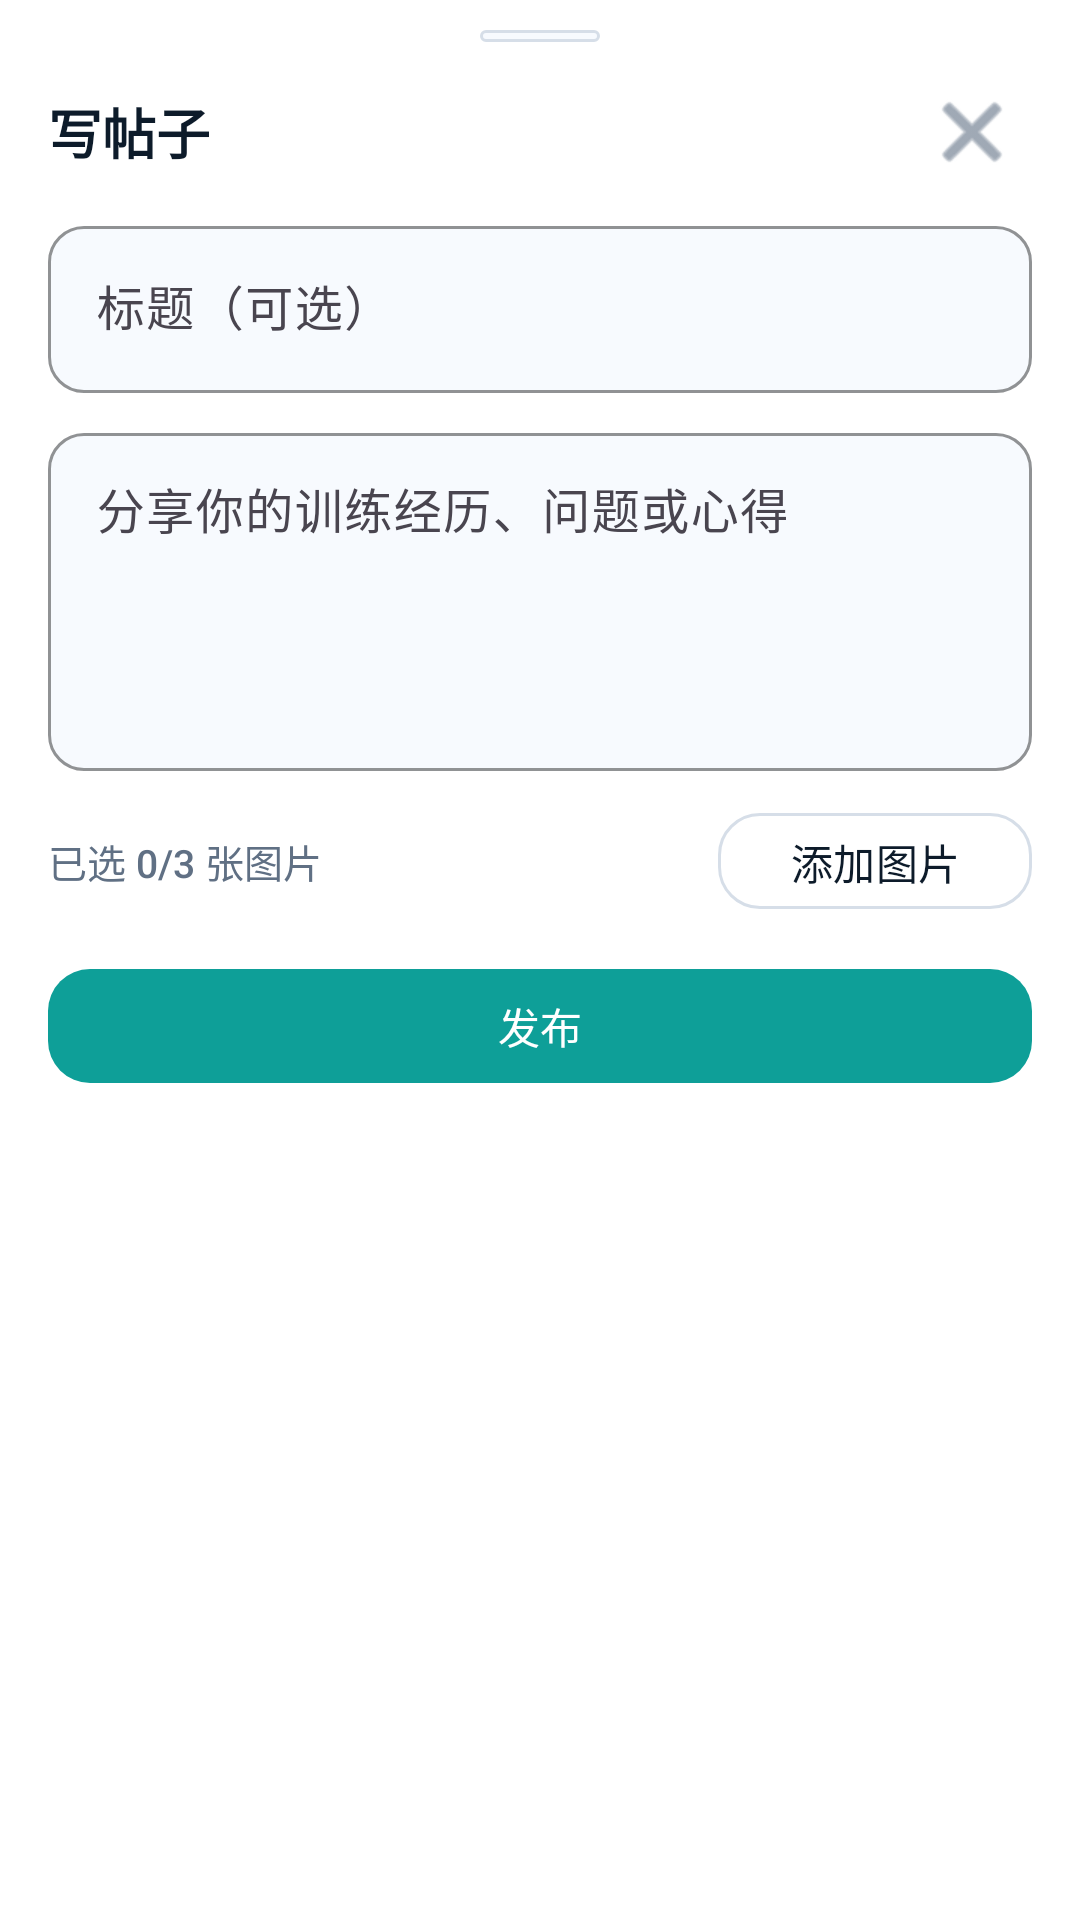

Icons on this 1080w x 1920h Android screen, each with the point to tap as [x,y]:
取消: [972,132]
